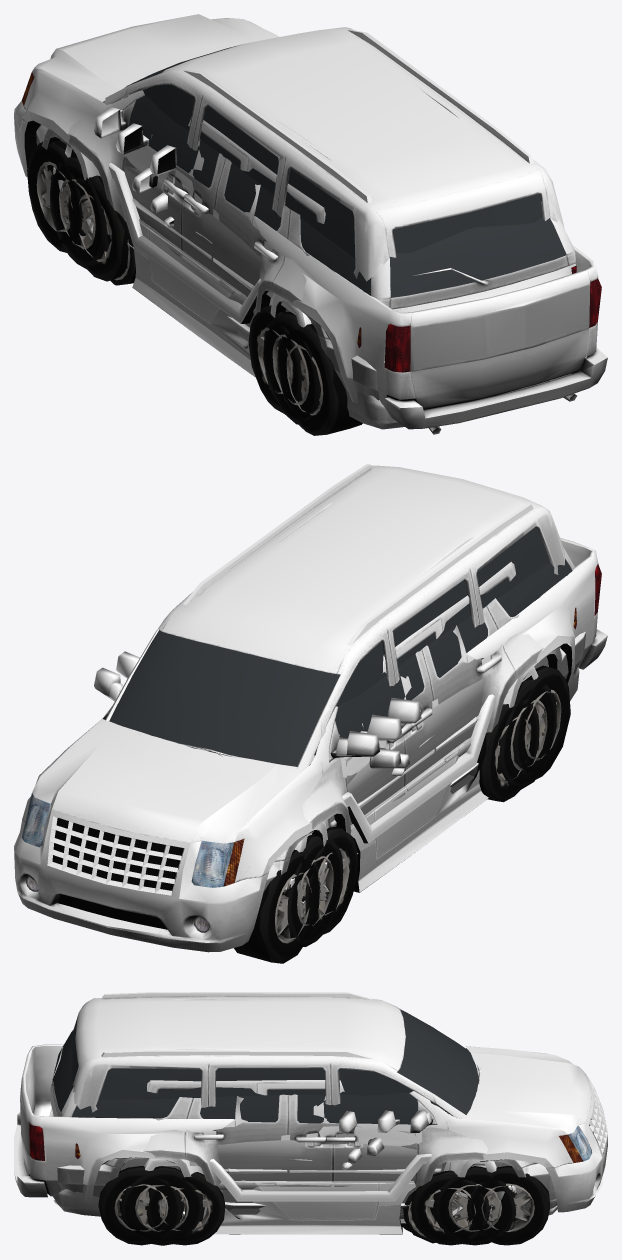
Rendered from cars.glb.
The picture shows the model from 3 angles, top to bottom: view 1: azimuth 30°, elevation 25°; view 2: azimuth 150°, elevation 25°; view 3: azimuth 270°, elevation 25°; orthographic projection. The views are drawn at different scales.
Visible parts, largest first — view 1: minivan, pickup, suv, offroad, sport; view 2: minivan, pickup, suv, offroad, sport; view 3: minivan, pickup, suv, offroad, sport.
Part boxes in pixels (left/top/right/bottom): minivan: left=60, top=27, right=571, bottom=429; pickup: left=14, top=14, right=607, bottom=435; suv: left=36, top=84, right=576, bottom=424; offroad: left=53, top=117, right=325, bottom=413; sport: left=110, top=216, right=255, bottom=377; minivan: left=47, top=464, right=579, bottom=935; pickup: left=14, top=537, right=607, bottom=963; suv: left=116, top=502, right=586, bottom=946; offroad: left=285, top=561, right=539, bottom=934; sport: left=351, top=738, right=488, bottom=892; minivan: left=53, top=992, right=557, bottom=1232; pickup: left=14, top=1044, right=607, bottom=1245; suv: left=49, top=999, right=557, bottom=1245; offroad: left=124, top=1080, right=515, bottom=1245; sport: left=202, top=1162, right=467, bottom=1243.
Size of the model in its own units: 2.32 by 1.98 by 5.83.
Materials: 22 (21 with a texture image).
